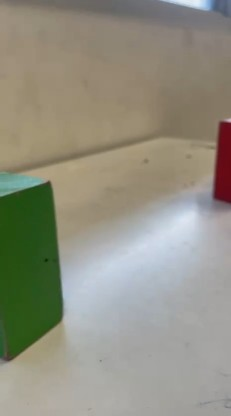green: (0, 172, 74, 365)
